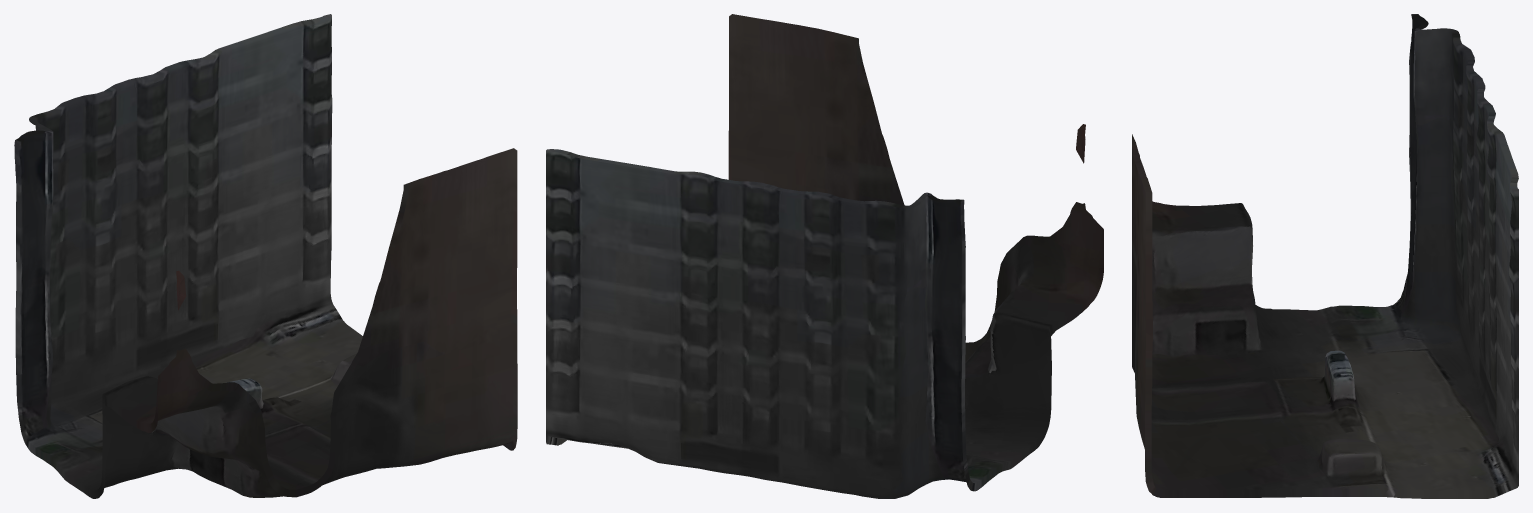
The model's file is z20-167745-405248-h0-yup-uvflip-v3-world.glb.
The picture shows the model from 3 angles, left to right: view 1: azimuth 30°, elevation 25°; view 2: azimuth 150°, elevation 25°; view 3: azimuth 270°, elevation 25°; orthographic projection.
Bounding box in the file's own units: 30.16 × 24.12 × 27.6.
1 material, 1 textured.
